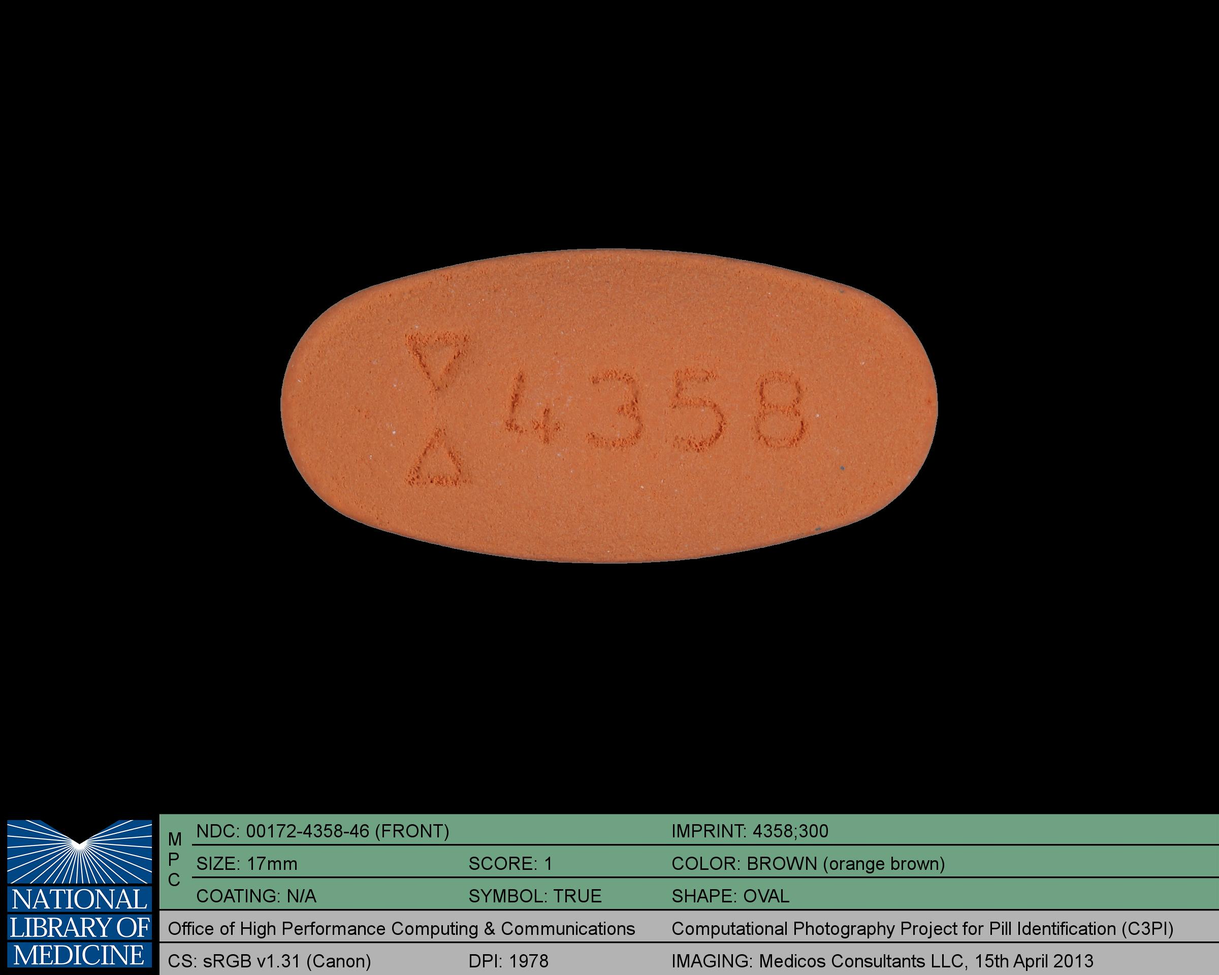Pill: (269, 235, 948, 576)
